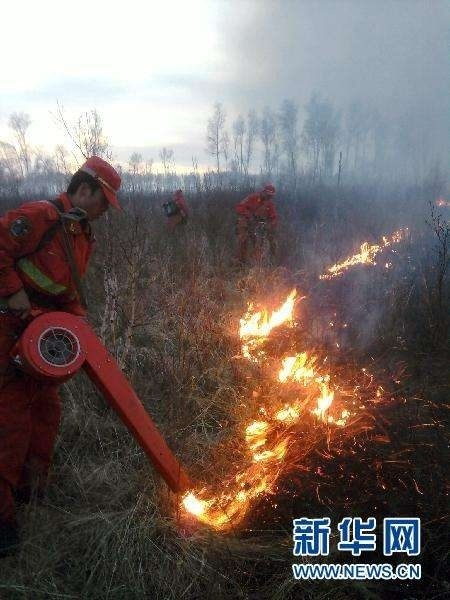fire: (186, 282, 351, 527), (319, 224, 408, 276), (236, 286, 300, 349)
